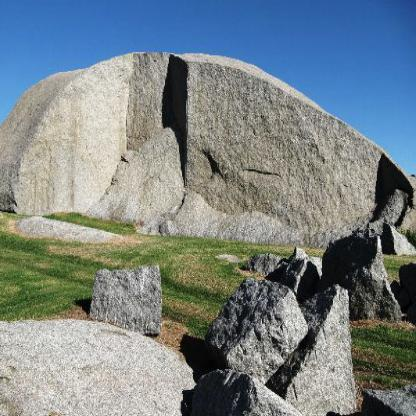Igneous_Granite: (186, 59, 372, 231), (1, 53, 134, 220), (1, 340, 198, 415), (278, 275, 361, 415), (84, 252, 164, 342), (134, 118, 180, 228)
